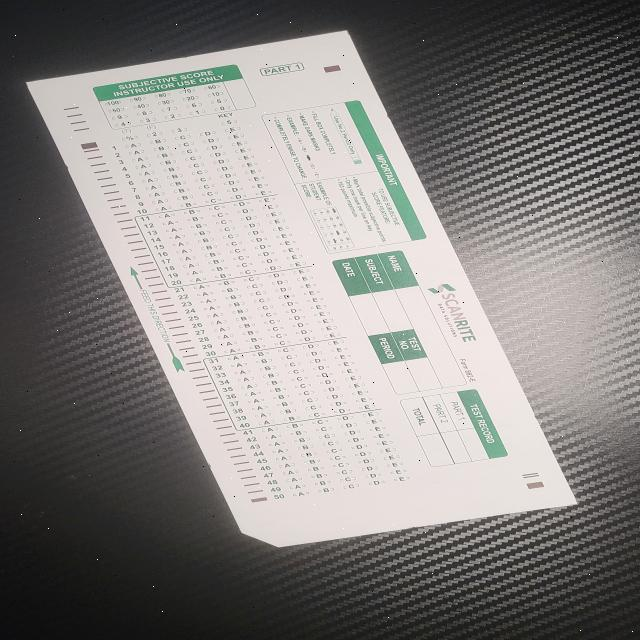scantron: (27, 30, 579, 547)
